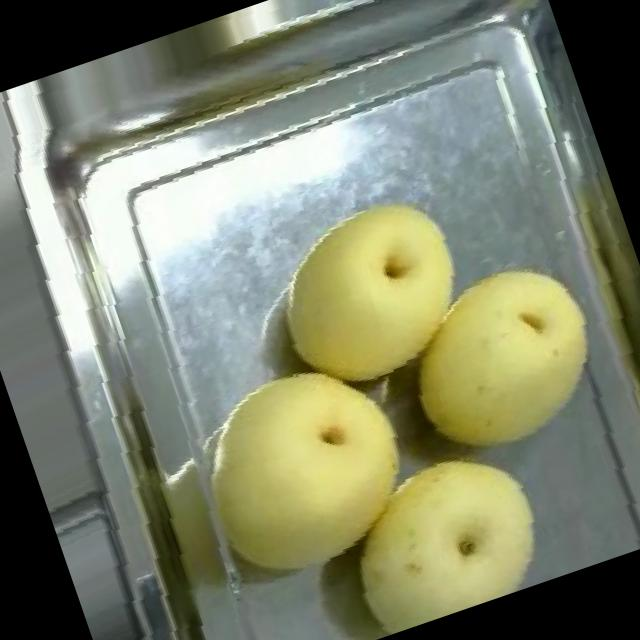Fruit: (168, 335, 442, 603), (380, 240, 628, 480), (248, 176, 494, 414), (319, 426, 565, 640)
